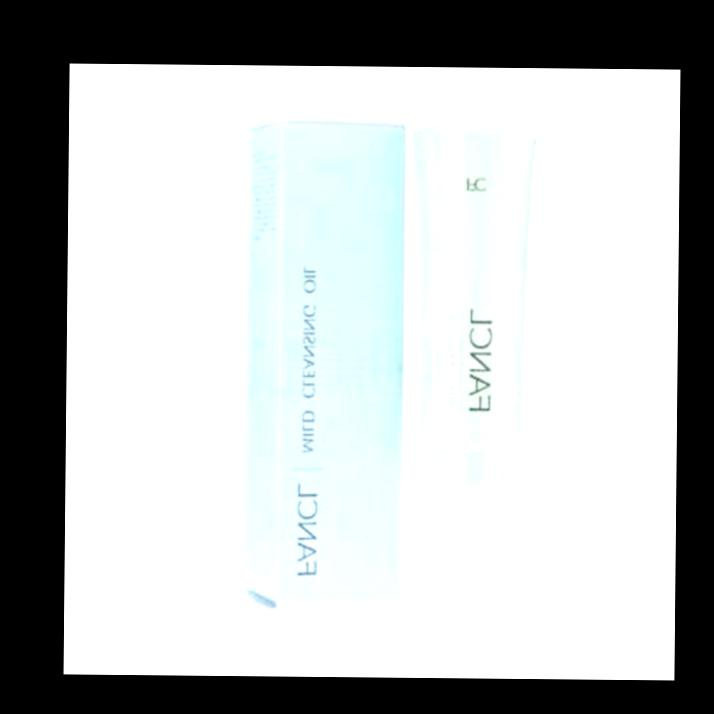cosmetic: (408, 131, 548, 590)
